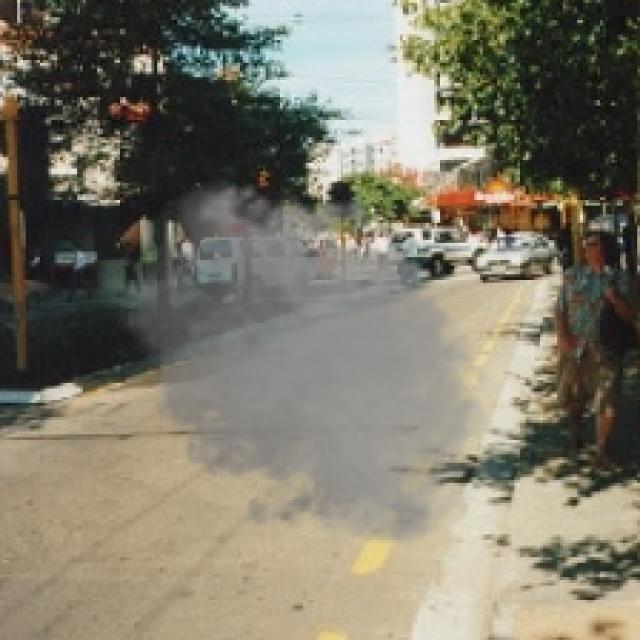Smoke: (102, 172, 498, 552)
